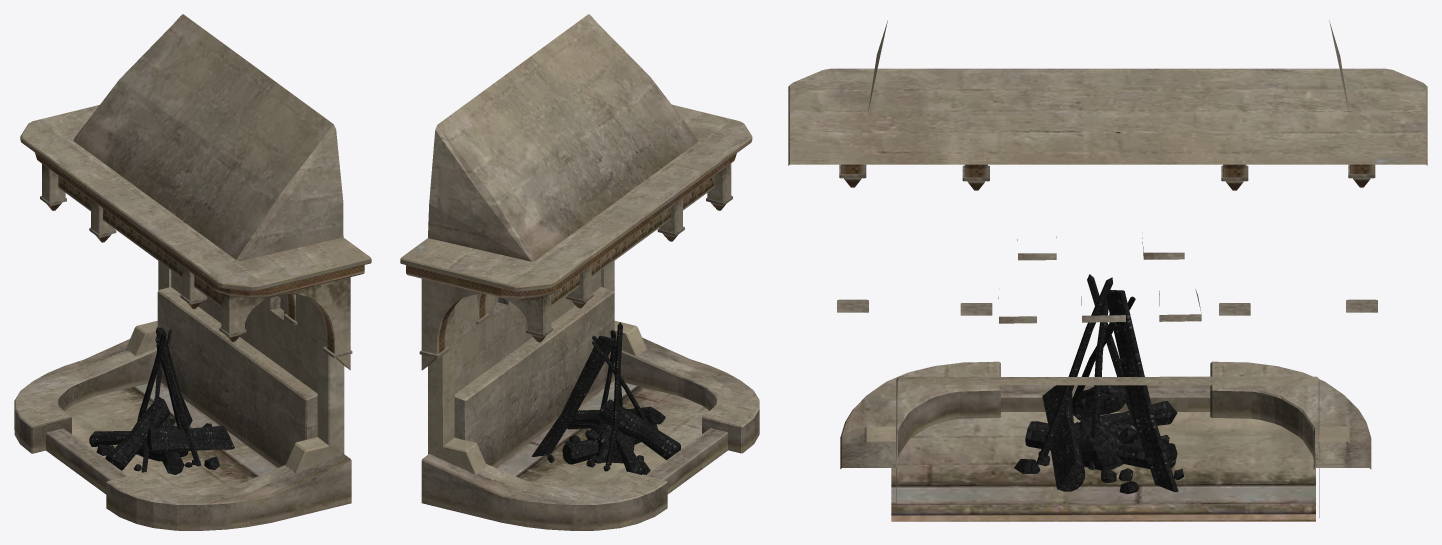
File: TW2_5_FUR_01_9-transformed.glb
3 renders of one model, left to right at view 1: azimuth 30°, elevation 25°; view 2: azimuth 150°, elevation 25°; view 3: azimuth 270°, elevation 25°, orthographic. The views are drawn at different scales.
Parts seen in each view (by area): view 1: default; view 2: default; view 3: default.
Part boxes in pixels (x1,y1,x2,y2): default: [14, 14, 371, 530]; default: [400, 14, 759, 530]; default: [788, 20, 1427, 521].
Size of the model in its own units: 1.61 by 2.9 by 3.25.
Materials: 2 (2 with a texture image).
